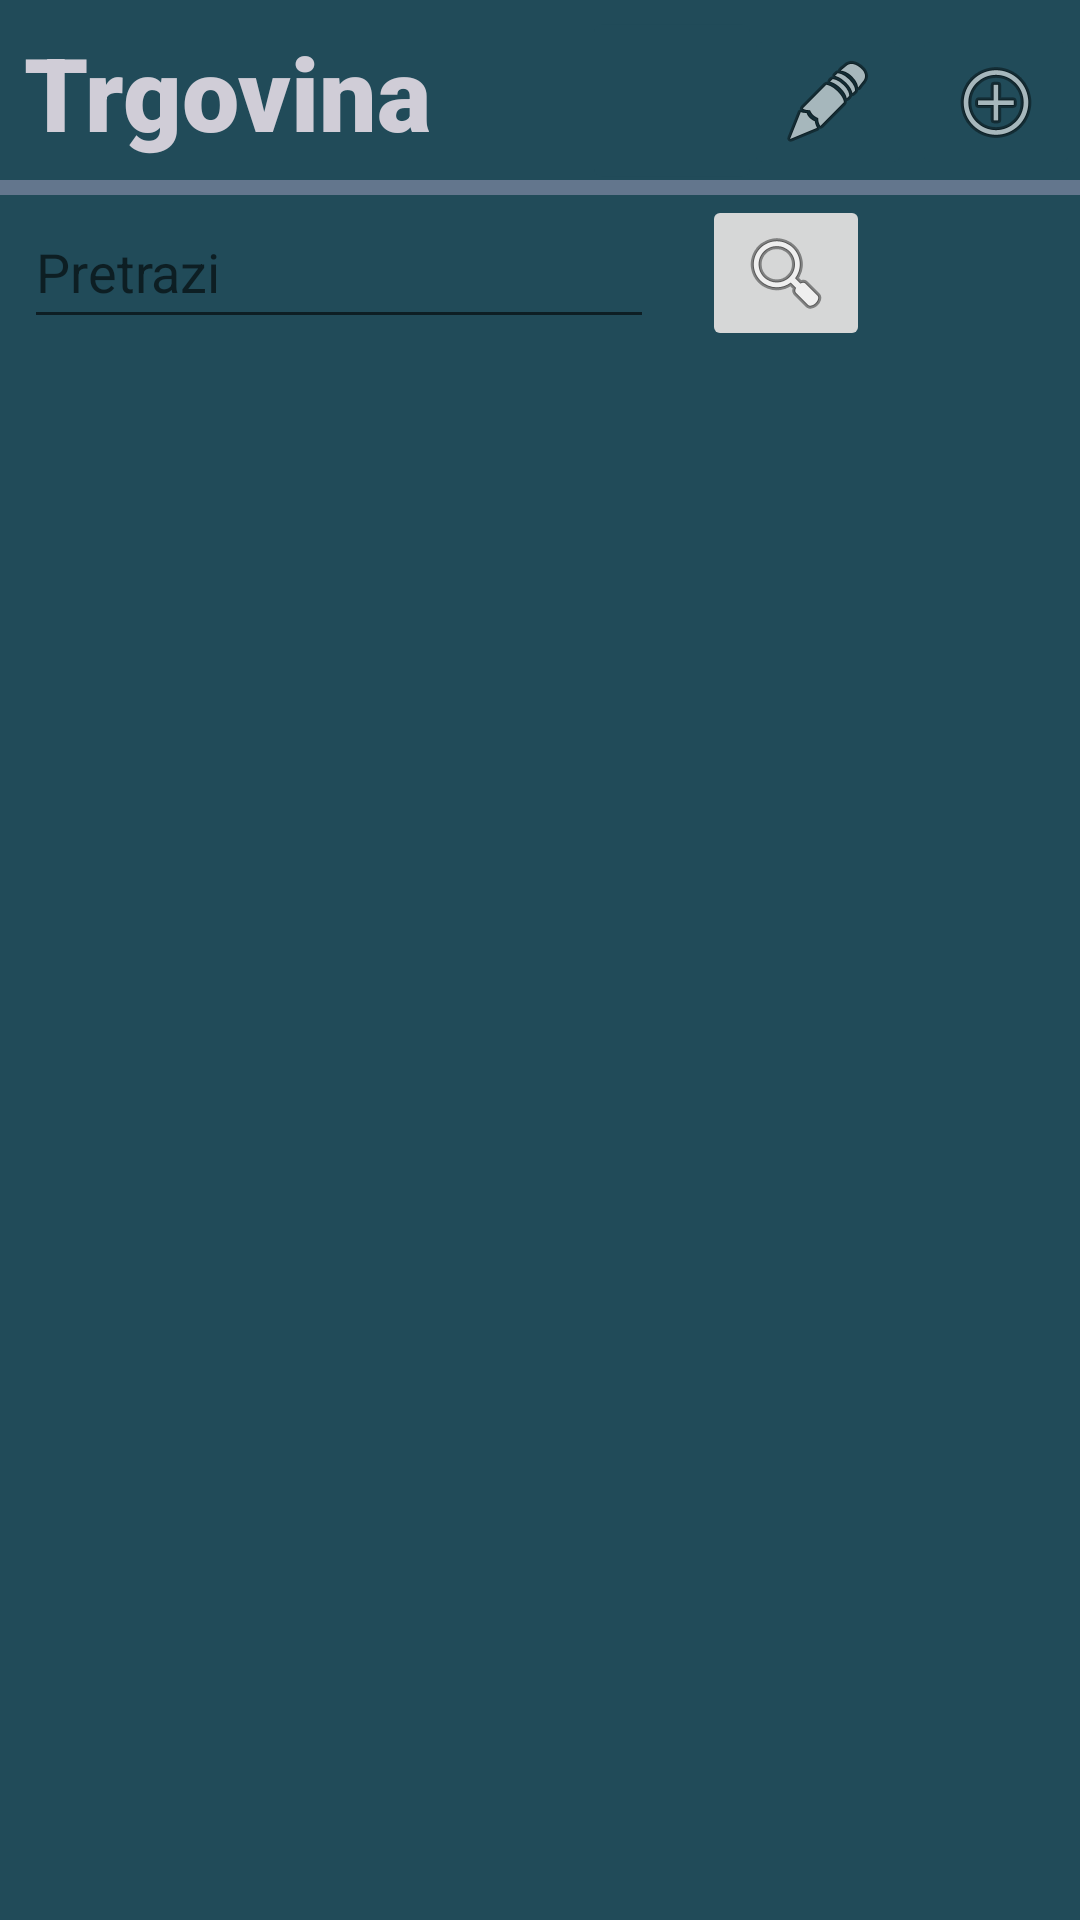

Where icons sit on this 1080*1920 app screen, as (x1, y1, x2, y2):
Add: (961, 67, 1031, 138)
Edit: (788, 61, 868, 141)
search: (714, 213, 858, 333)
